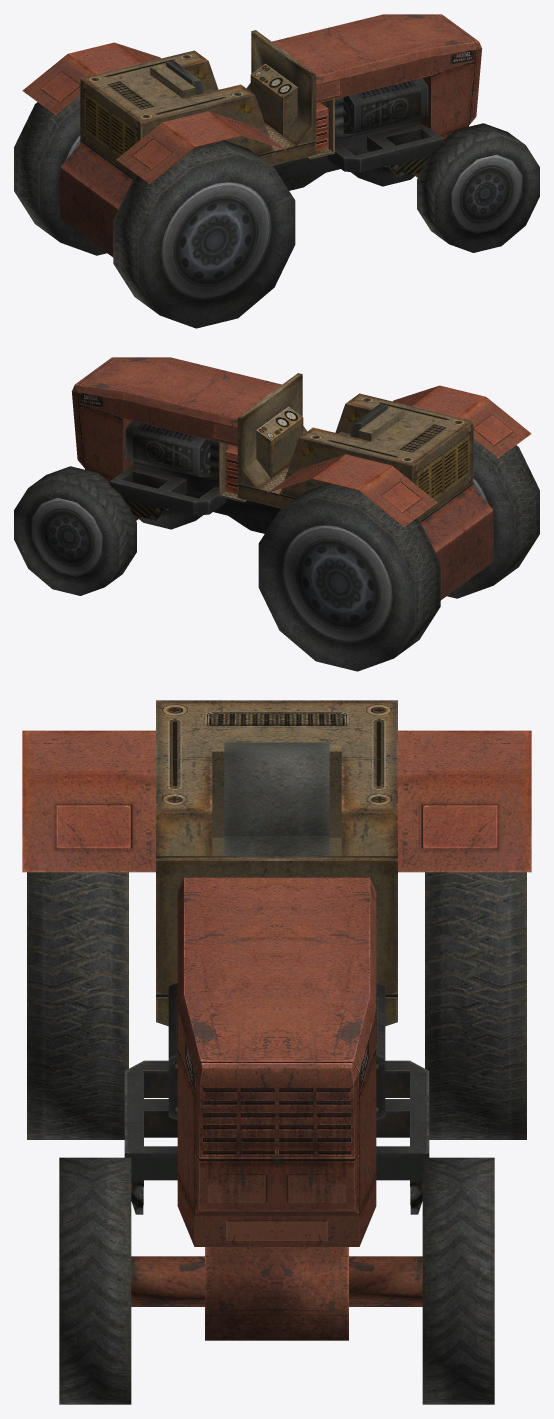
The model's file is Prop_Tractor_lod2.glb.
The picture shows the model from 3 angles, top to bottom: view 1: azimuth 30°, elevation 25°; view 2: azimuth 150°, elevation 25°; view 3: azimuth 270°, elevation 25°; orthographic projection. The views are drawn at different scales.
Visible parts, largest first — view 1: xiutz_tuolaji_lod2; view 2: xiutz_tuolaji_lod2; view 3: xiutz_tuolaji_lod2.
Part boxes in pixels (x1,y1,x2,y2): xiutz_tuolaji_lod2: (14,14,539,328); xiutz_tuolaji_lod2: (14,357,539,671); xiutz_tuolaji_lod2: (22,700,531,1404).
Bounding box in the file's own units: 4.91 × 2.3 × 2.65.
1 material, 1 textured.
